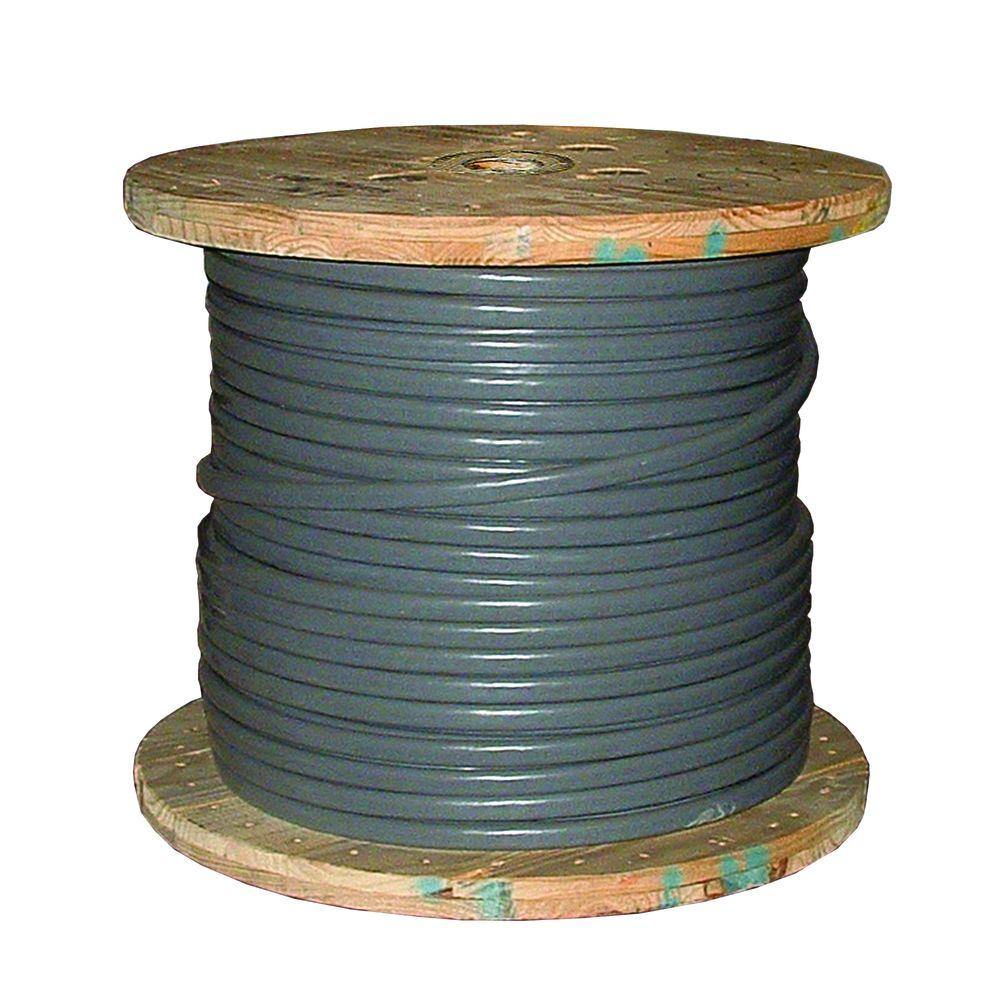Nonrec_Tangler: (57, 36, 942, 932)
